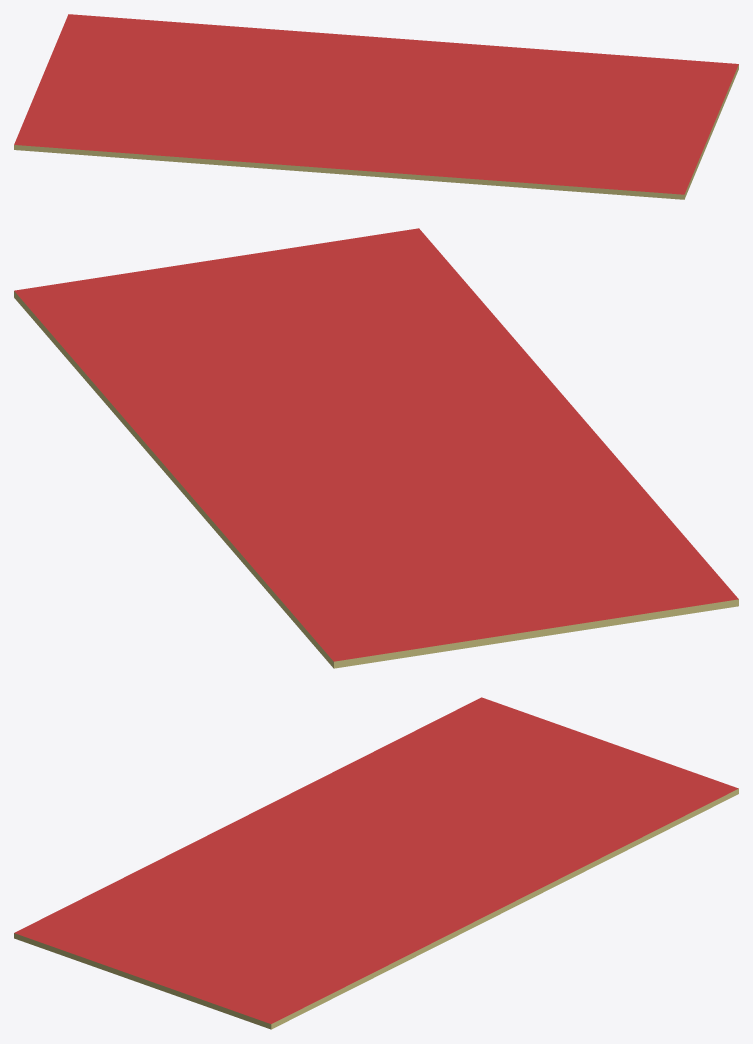
The picture shows the model from 3 angles, top to bottom: view 1: azimuth 30°, elevation 25°; view 2: azimuth 150°, elevation 25°; view 3: azimuth 270°, elevation 25°; orthographic projection. The views are drawn at different scales.
Bounding box in the file's own units: 12.88 × 12.08 × 0.1.
